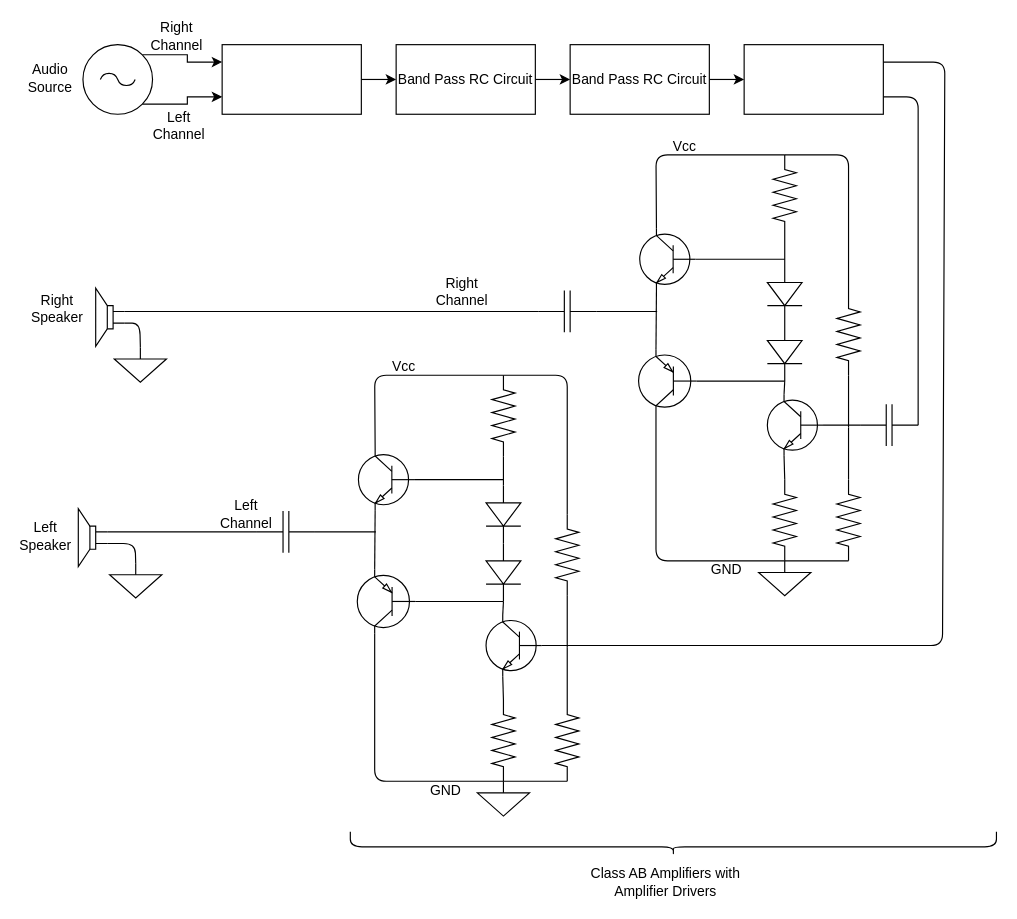
This 1017x919 diagram has some shape labels left out. The shapes that lost their labels are listed below. From the top down, each one's box as (x1, y1, x2, y2) in pixels, then its label:
(221, 44, 361, 114): Low Pass RC Circuit
(743, 44, 883, 114): High Pass RC Circuit
